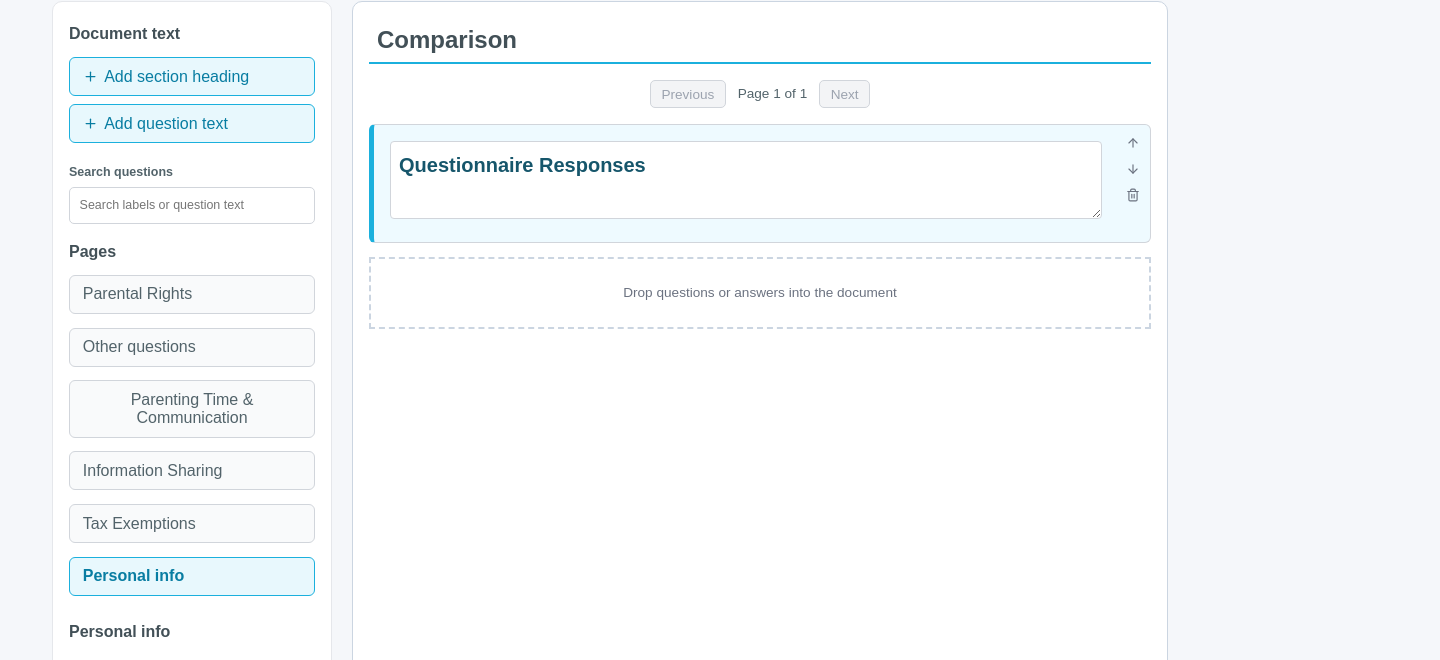
Test: FormDesigner › shows readable Information Sharing question labels
Click the tab "Information Sharing" at [192, 471], box [69,451,315,490]
(page scrolled)
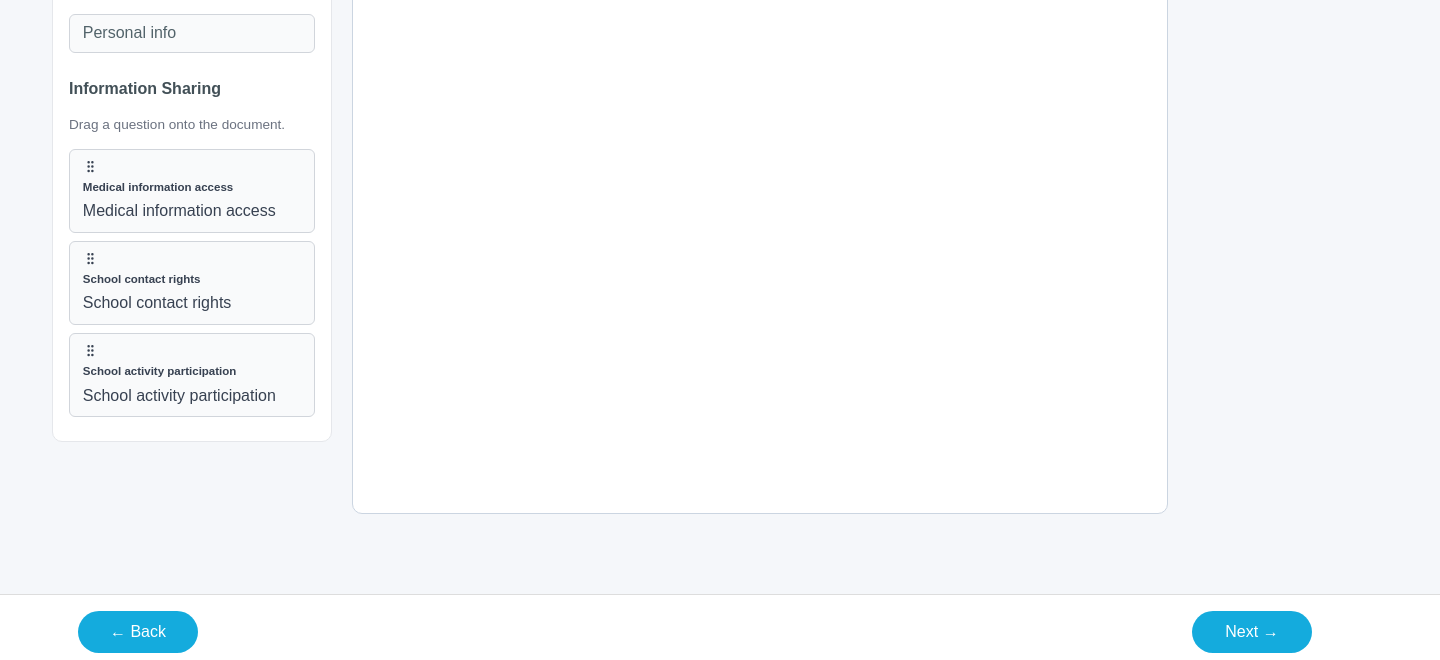
Expected: the 1st text "Medical information access" is shown, [83,180,233,192]
Expected: the 1st text "School contact rights" is shown, [83,273,200,285]
Expected: the 1st text "School activity participation" is shown, [83,365,236,377]
